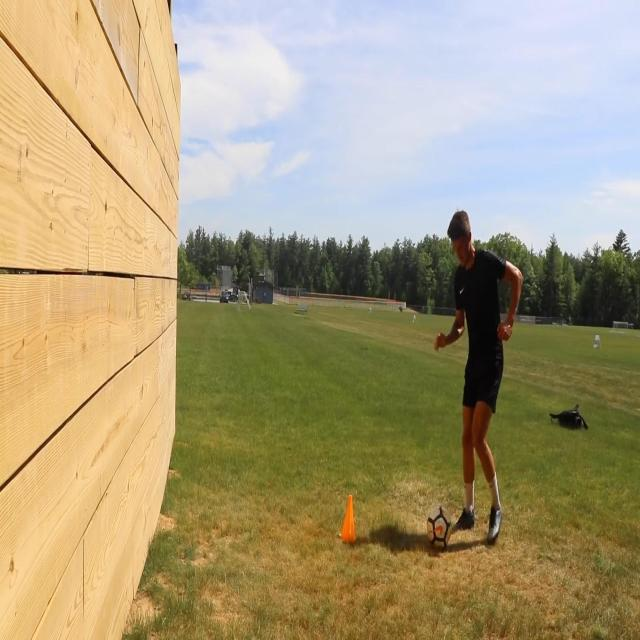Soccer Ball: (425, 503, 453, 552)
